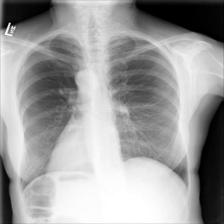normal: (17, 29, 192, 199)
